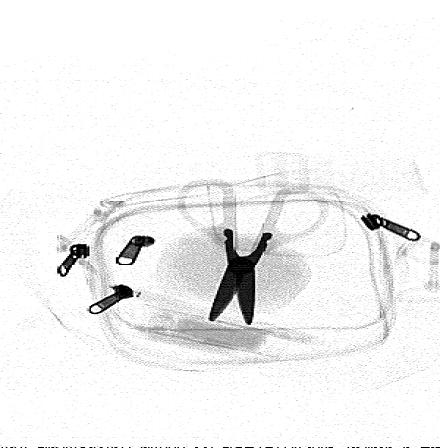Scissors: (172, 176, 336, 331)
